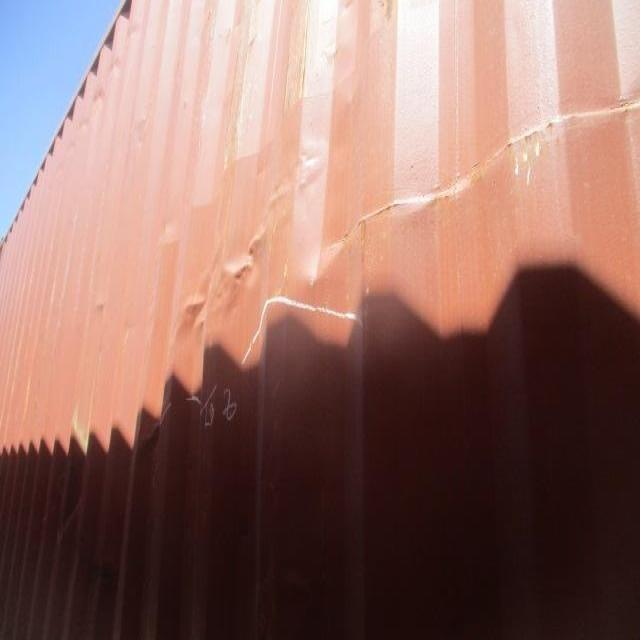dent: (352, 90, 638, 236), (176, 150, 337, 333)
